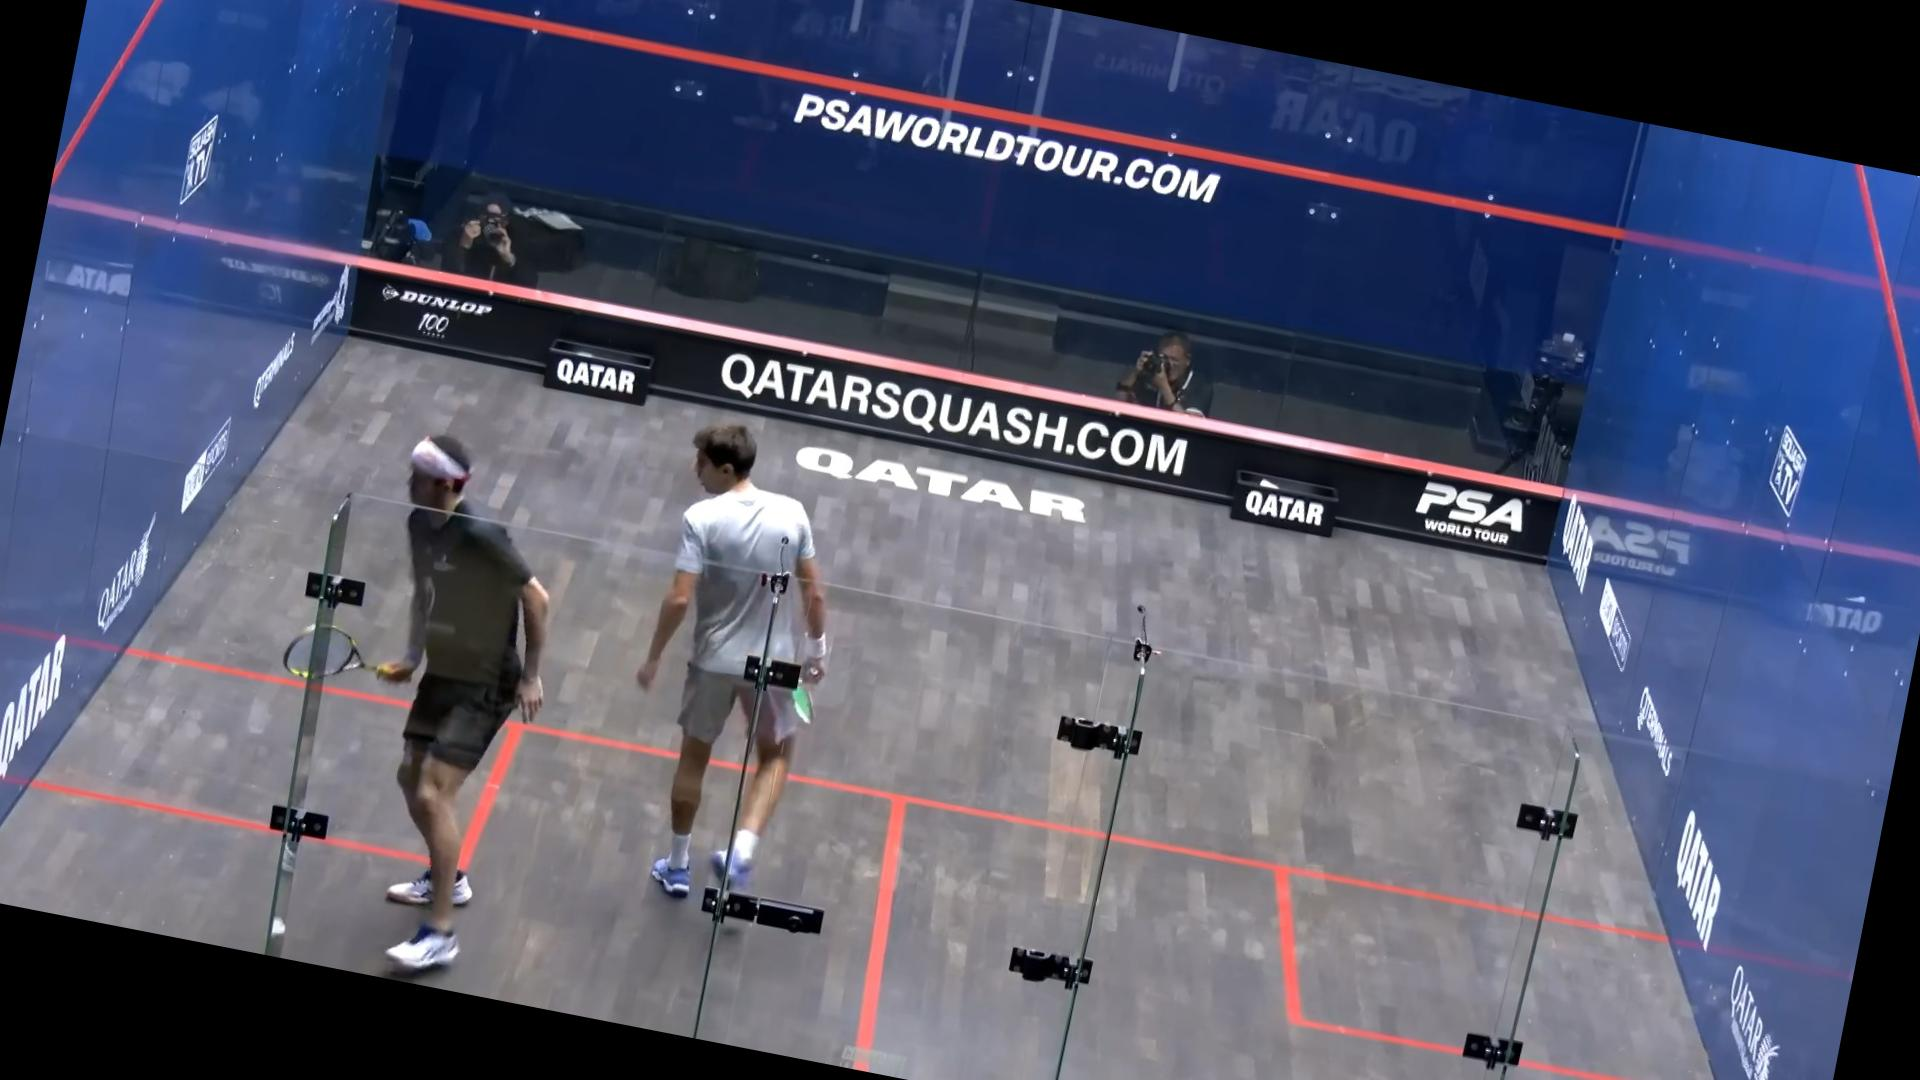Racket: (277, 612, 388, 699)
